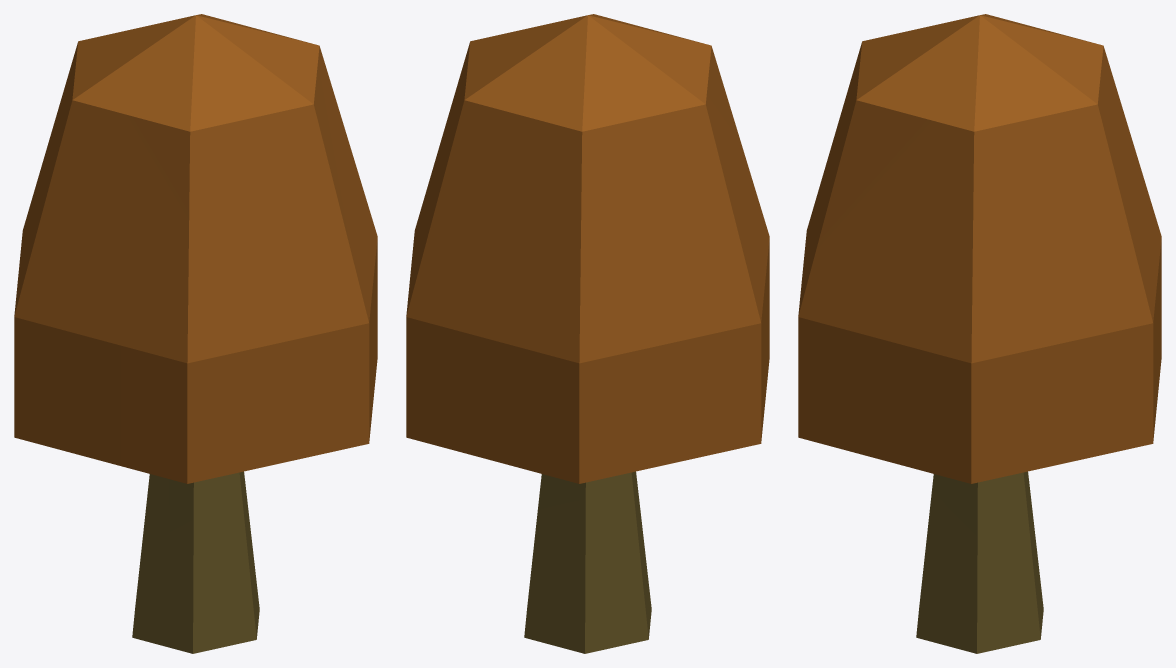
Rendered from Vegetation_Tree_Common_Autumn_03.fbx.
The picture shows the model from 3 angles, left to right: view 1: azimuth 30°, elevation 25°; view 2: azimuth 150°, elevation 25°; view 3: azimuth 270°, elevation 25°; orthographic projection.
Visible parts, largest first — view 1: Vegetation_Tree_Common_Autumn_03; view 2: Vegetation_Tree_Common_Autumn_03; view 3: Vegetation_Tree_Common_Autumn_03.
Boxes of the visible parts, <box> form: Vegetation_Tree_Common_Autumn_03: <box>14,14,377,653</box>; Vegetation_Tree_Common_Autumn_03: <box>406,14,769,653</box>; Vegetation_Tree_Common_Autumn_03: <box>798,14,1161,653</box>.
Size of the model in its own units: 101 by 166 by 89.85.
